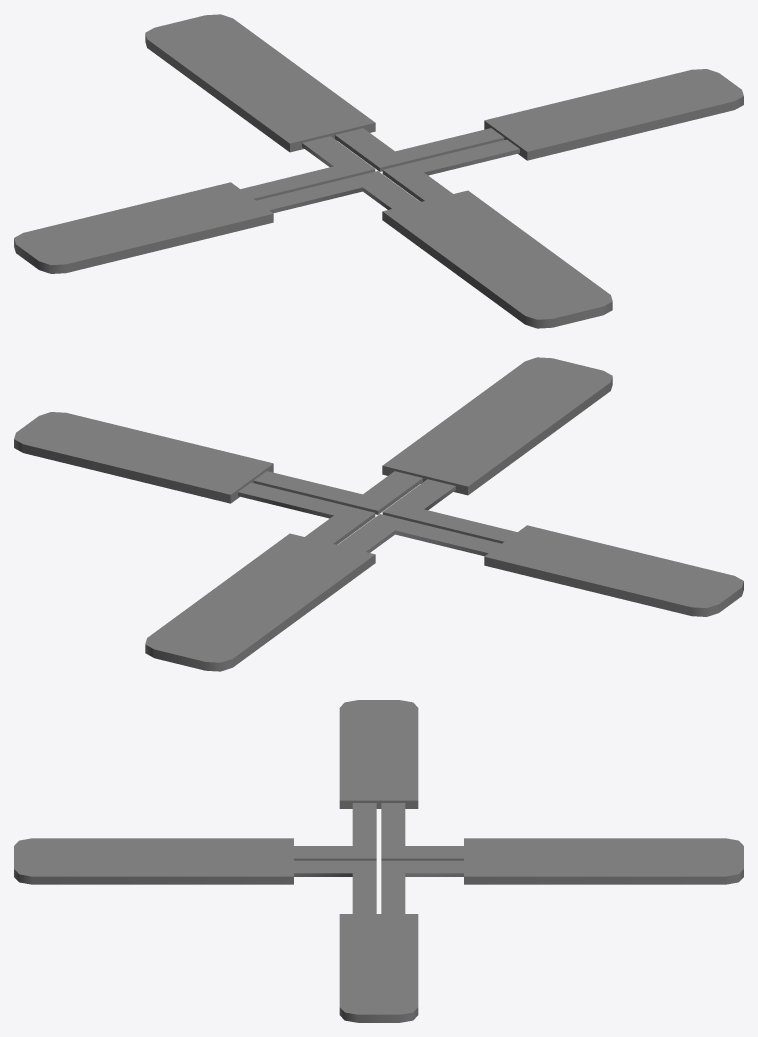
Rendered from RFan_B.obj.
The picture shows the model from 3 angles, top to bottom: view 1: azimuth 30°, elevation 25°; view 2: azimuth 150°, elevation 25°; view 3: azimuth 270°, elevation 25°; orthographic projection. The views are drawn at different scales.
Parts seen in each view (by area): view 1: RFan_B; view 2: RFan_B; view 3: RFan_B.
Part boxes in pixels (<box>): RFan_B: <box>14,14,743,328</box>; RFan_B: <box>14,357,743,671</box>; RFan_B: <box>14,700,743,1022</box>.
Size of the model in its own units: 1.76 by 0.0212 by 1.73.
